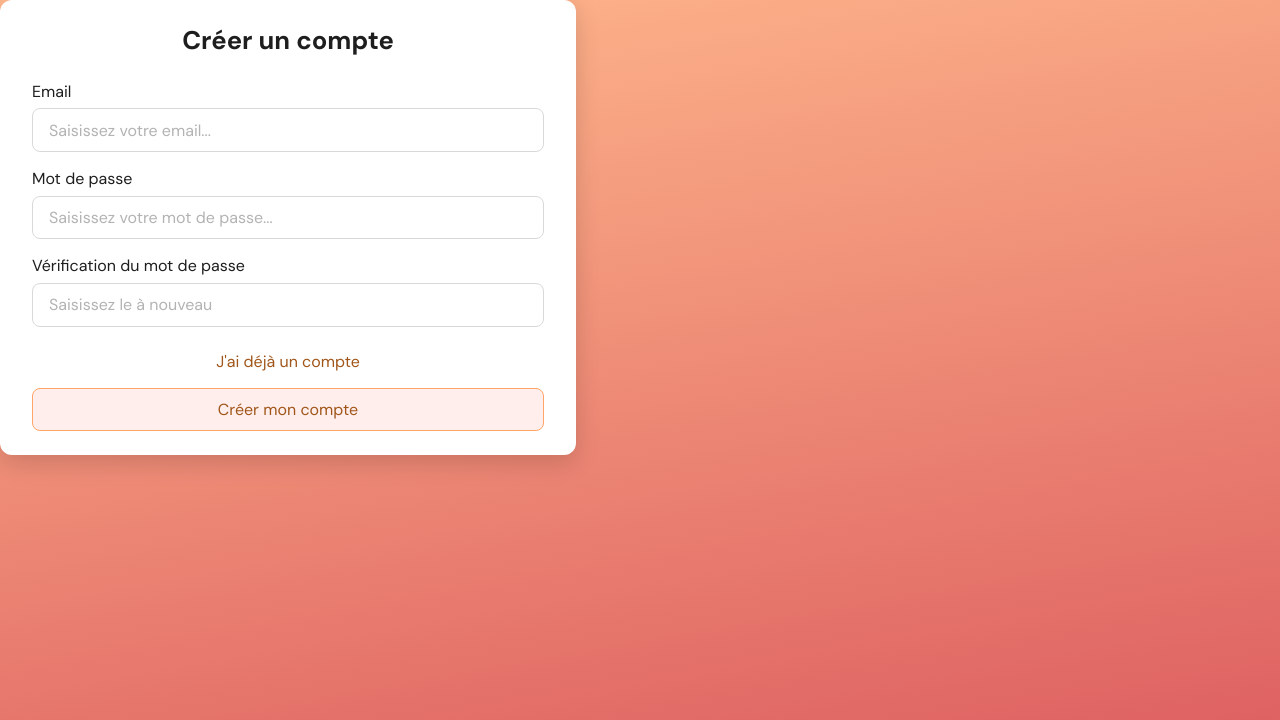
Test: Page Créer un compte › refuse un mot de passe de moins de 8 caractères et une vérification différente
Type "bob@mail.fr" into the field labelled "Email" at (288, 130), box 32,108 -> 544,152
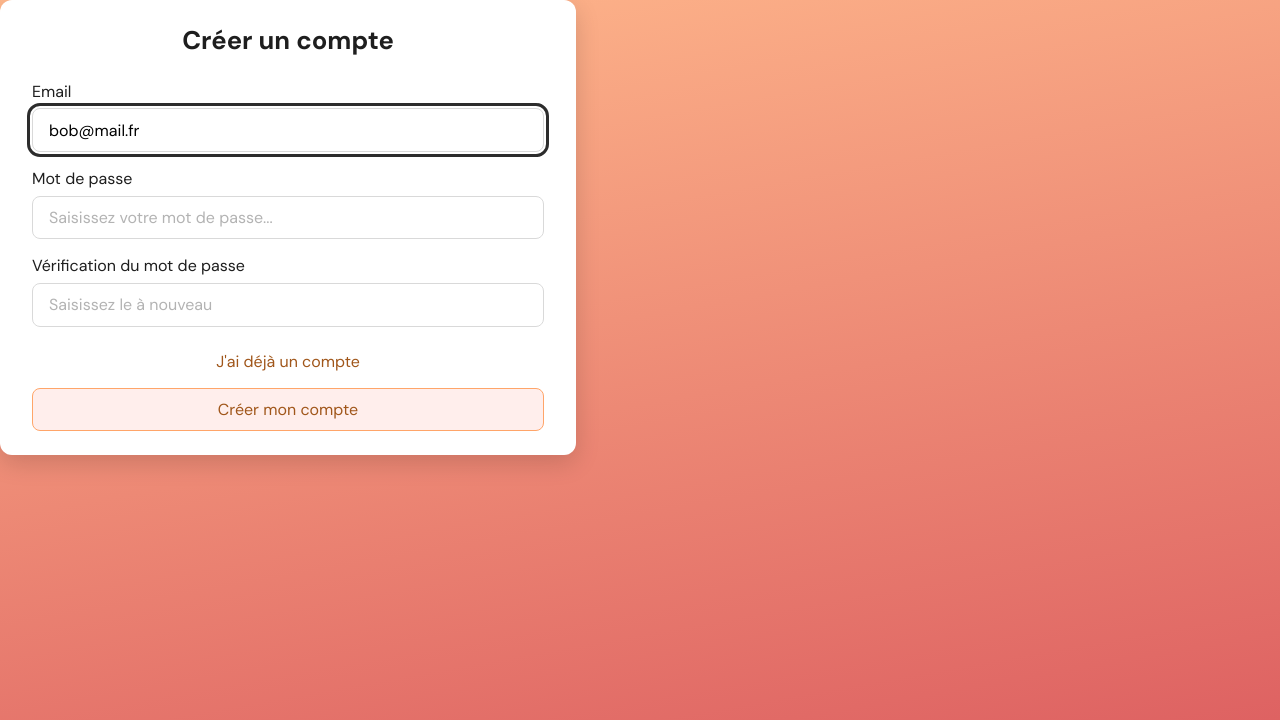
Type "court" into the password field labelled "Mot de passe" at (288, 218), box 32,196 -> 544,239
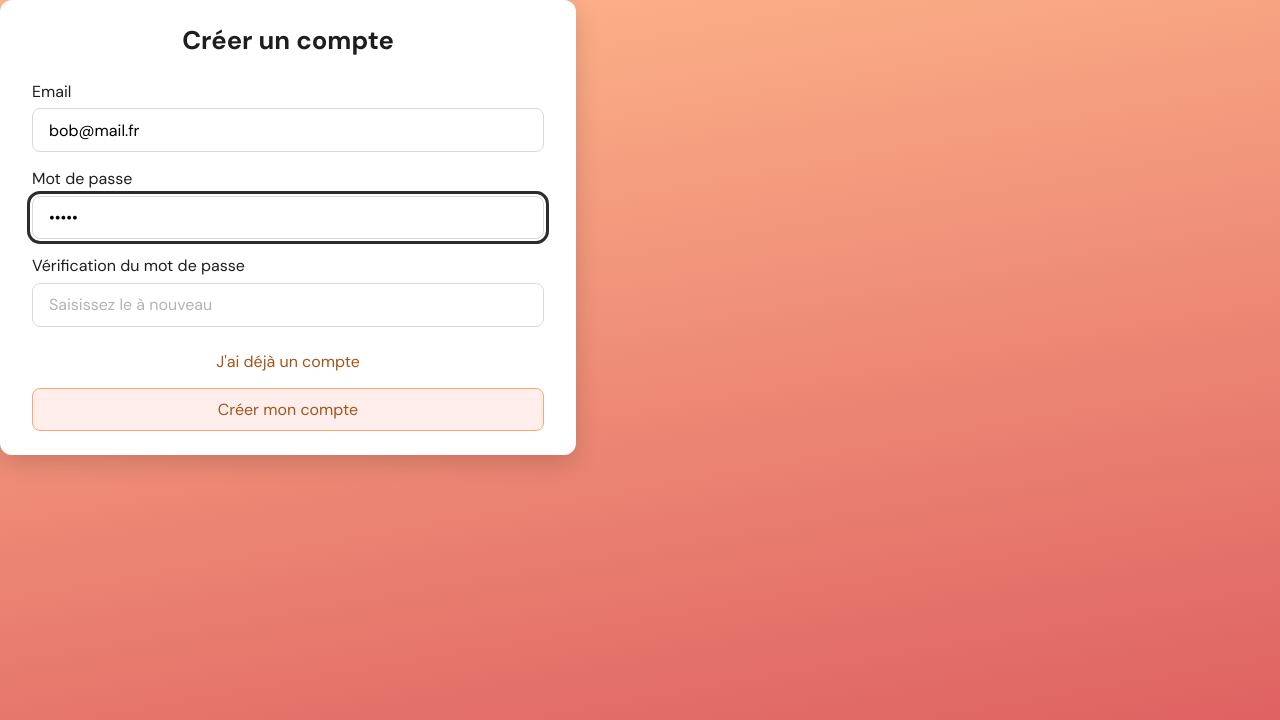
Type "autre" into the password field labelled "Vérification du mot de passe" at (288, 305), box 32,283 -> 544,326
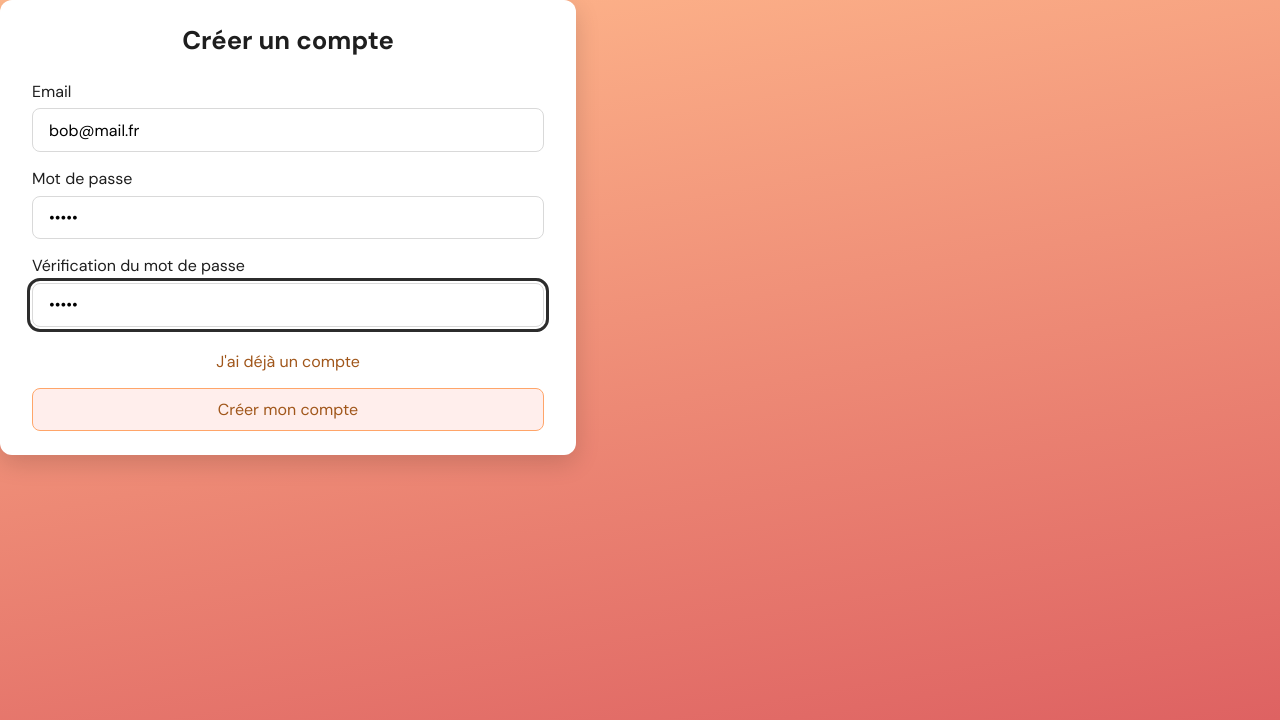
Click the button "Créer mon compte" at (288, 409), box 32,388 -> 544,431
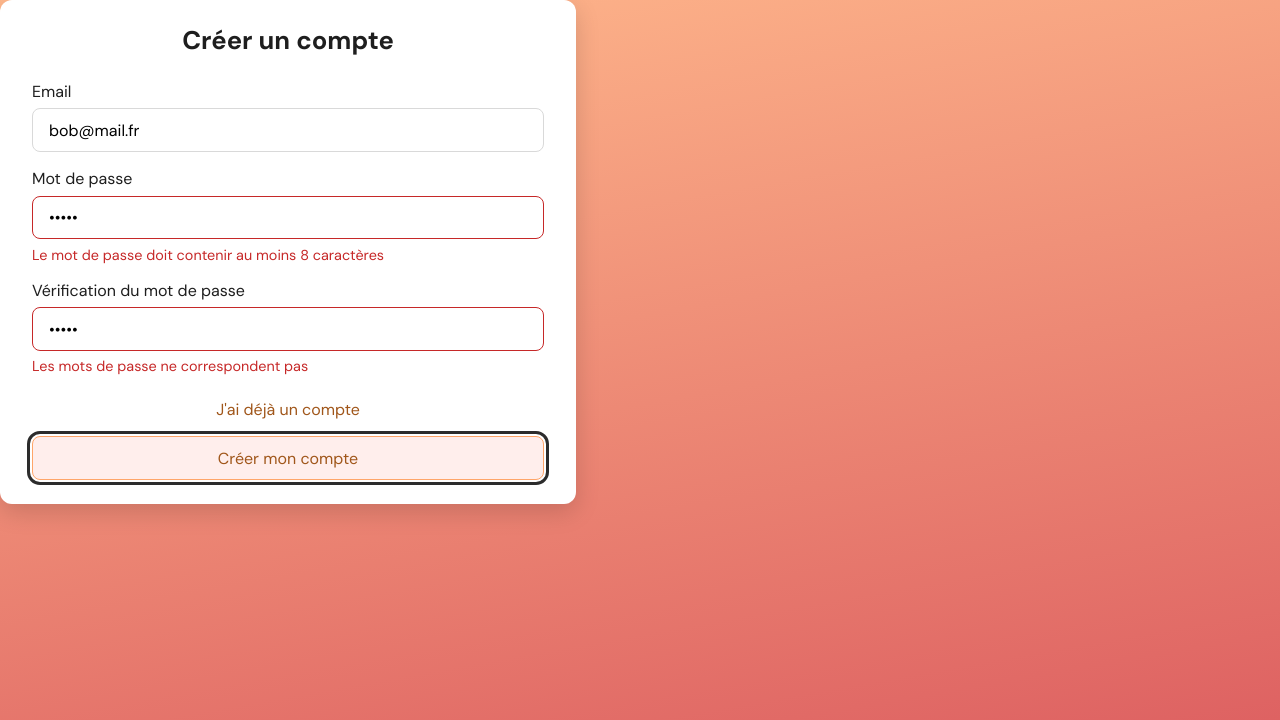
expect the text "Le mot de passe doit contenir au moins 8 caractères" is shown: met, box 32,246 -> 384,264
expect the text "Les mots de passe ne correspondent pas" is shown: met, box 32,357 -> 308,375
Type "x" into the password field labelled "Mot de passe" at (288, 218), box 32,196 -> 544,239
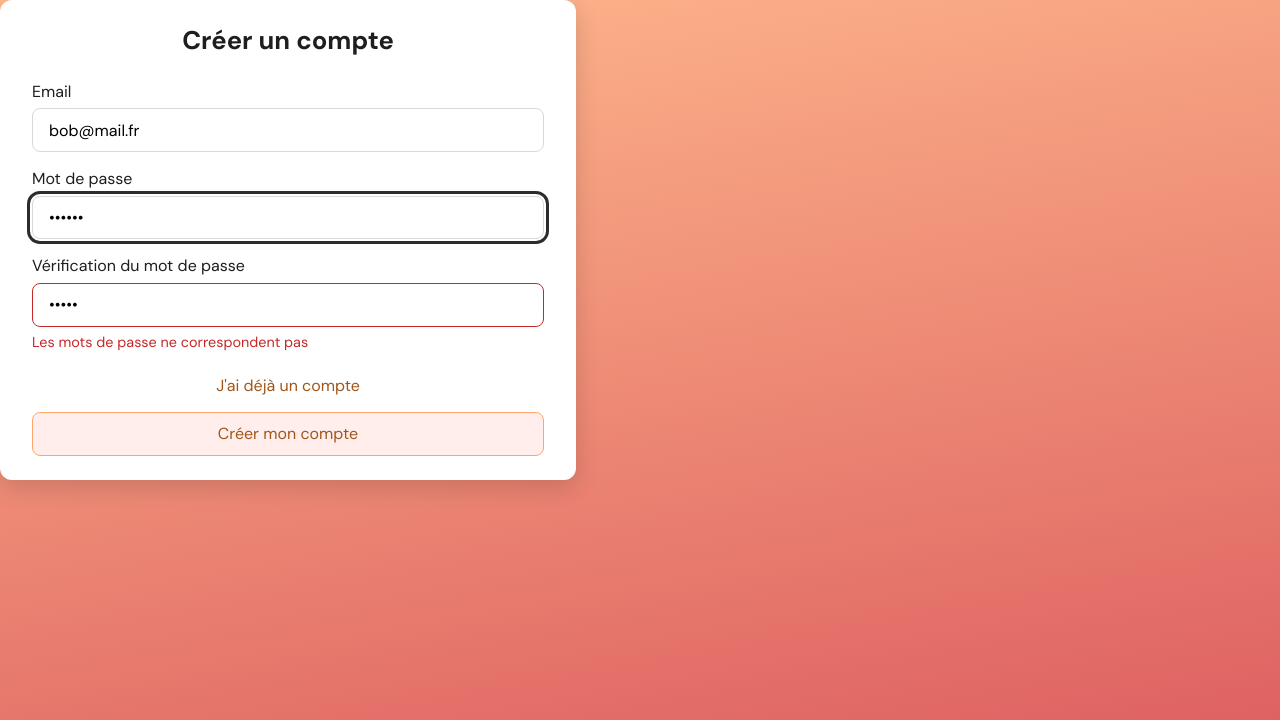
expect the text "Le mot de passe doit contenir au moins 8 caractères" is gone: met
